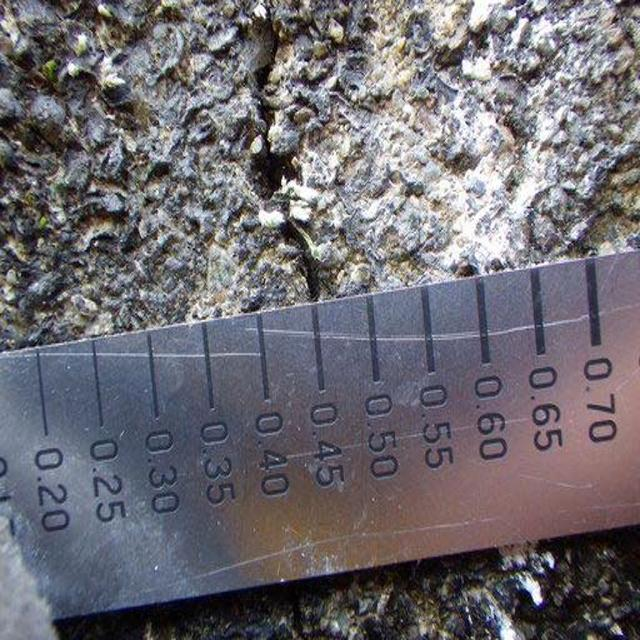crack: (240, 12, 347, 307)
